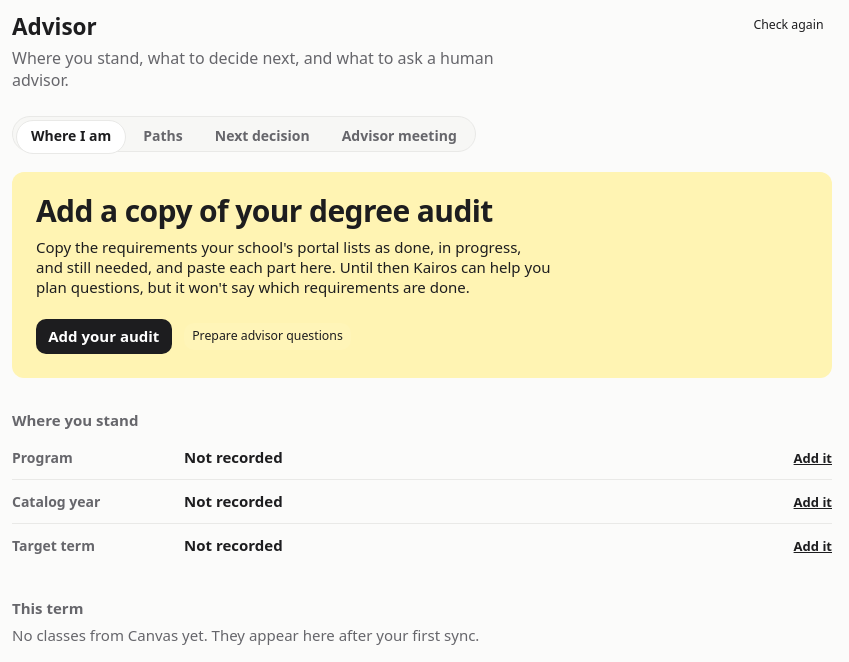
Test: AdvisorView › stays in planning mode without an audit and never claims requirement counts
Expected: the heading "Add a copy of your degree audit" is shown, left=36, top=194, right=493, bottom=227
Click the tab "Paths". click: (163, 137)
box: left=128, top=120, right=198, bottom=154
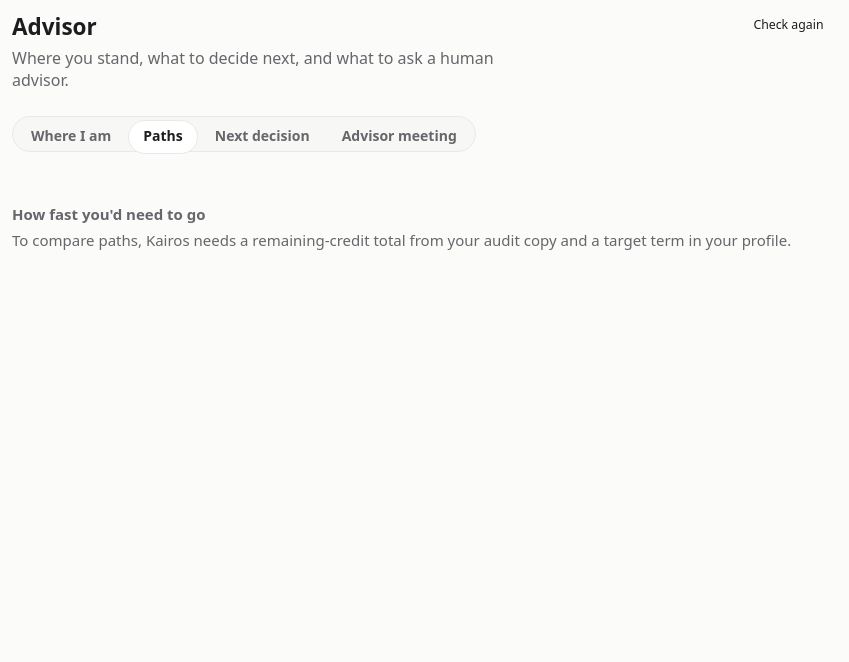
Expected: the text "needs a remaining-credit total from your audit copy and a target term" is shown, left=12, top=230, right=832, bottom=250
